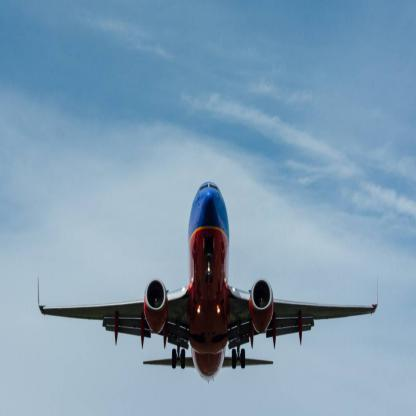CIV_Plane: (35, 176, 386, 378)
